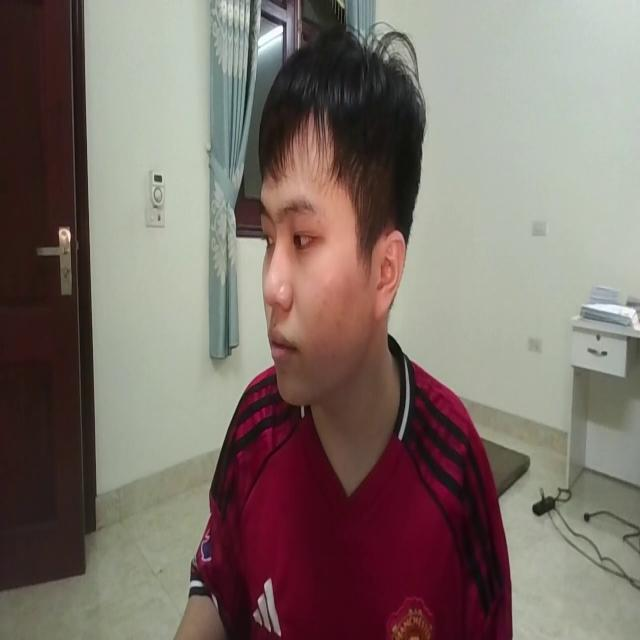student: (168, 19, 511, 640)
